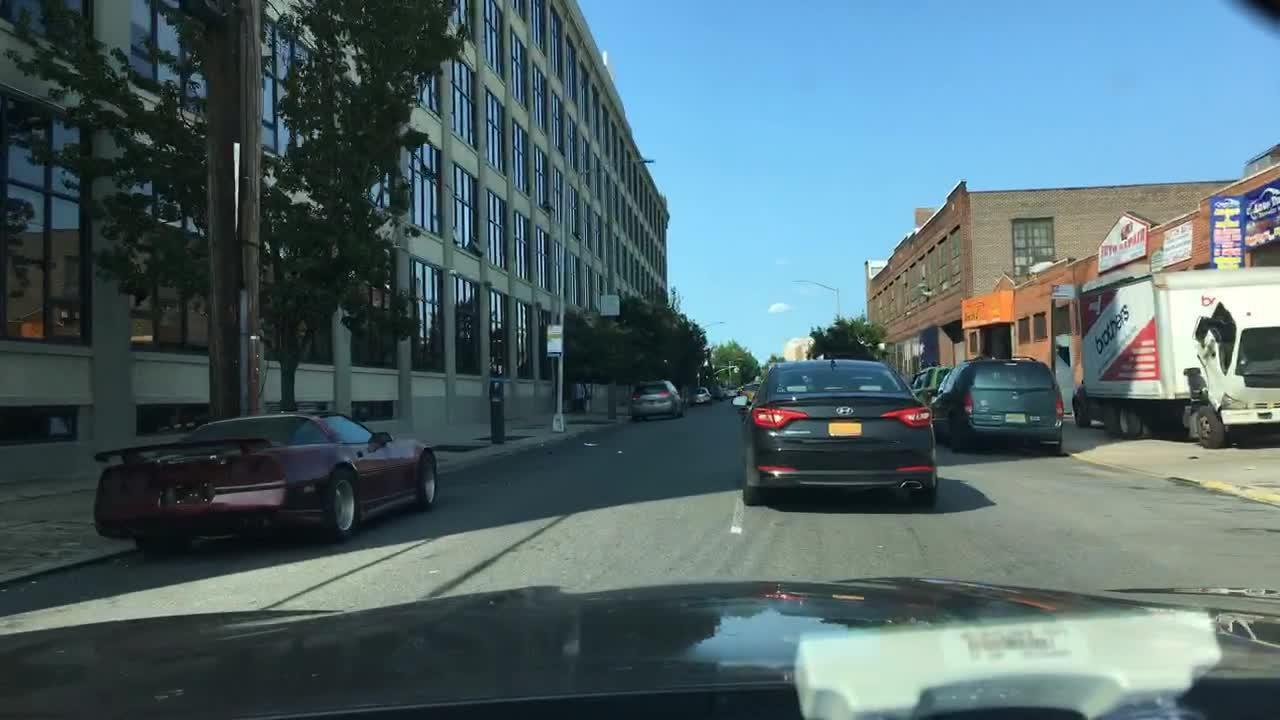Hyundai: (834, 403, 855, 419)
